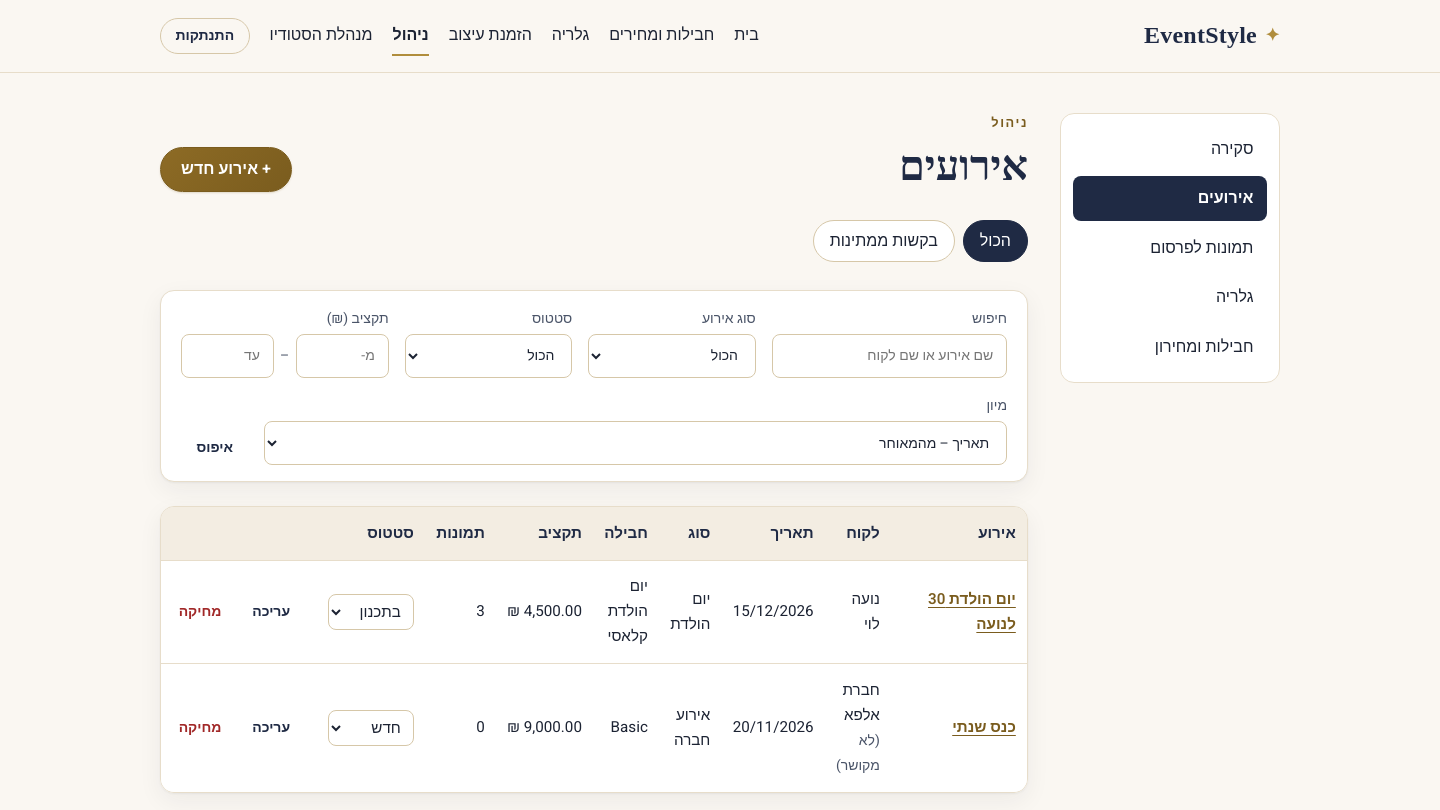
Test: Admin: events management › updates a status inline (PATCH) and refreshes
Select "בהכנות" in the dropdown named "סטטוס של כנס שנתי" in the row of "כנס שנתי" at (371, 728), box x1=328 y1=710 x2=414 y2=746
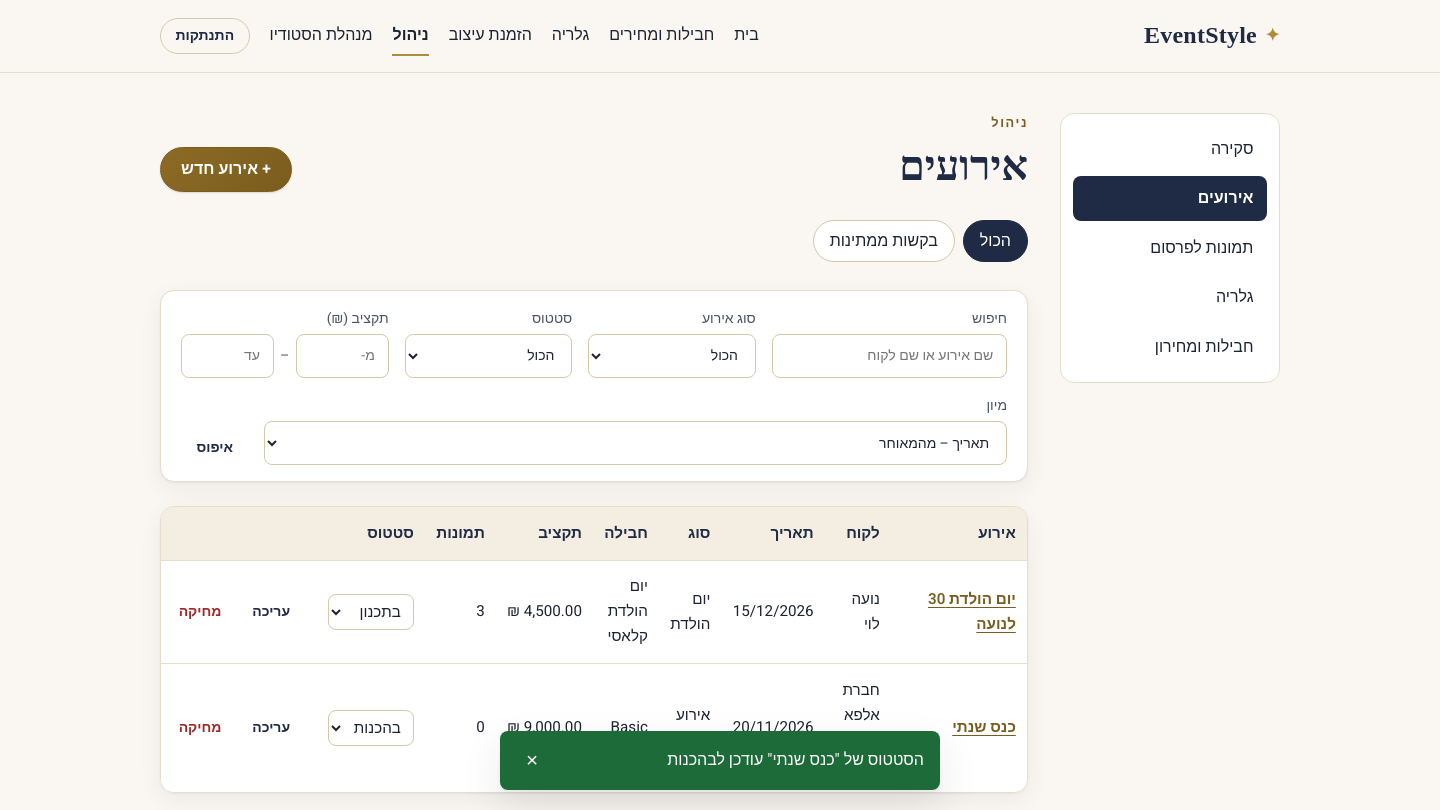
Expected: the text "הסטטוס של \"כנס שנתי\" עודכן לבהכנות" is shown, x1=667 y1=747 x2=924 y2=774
